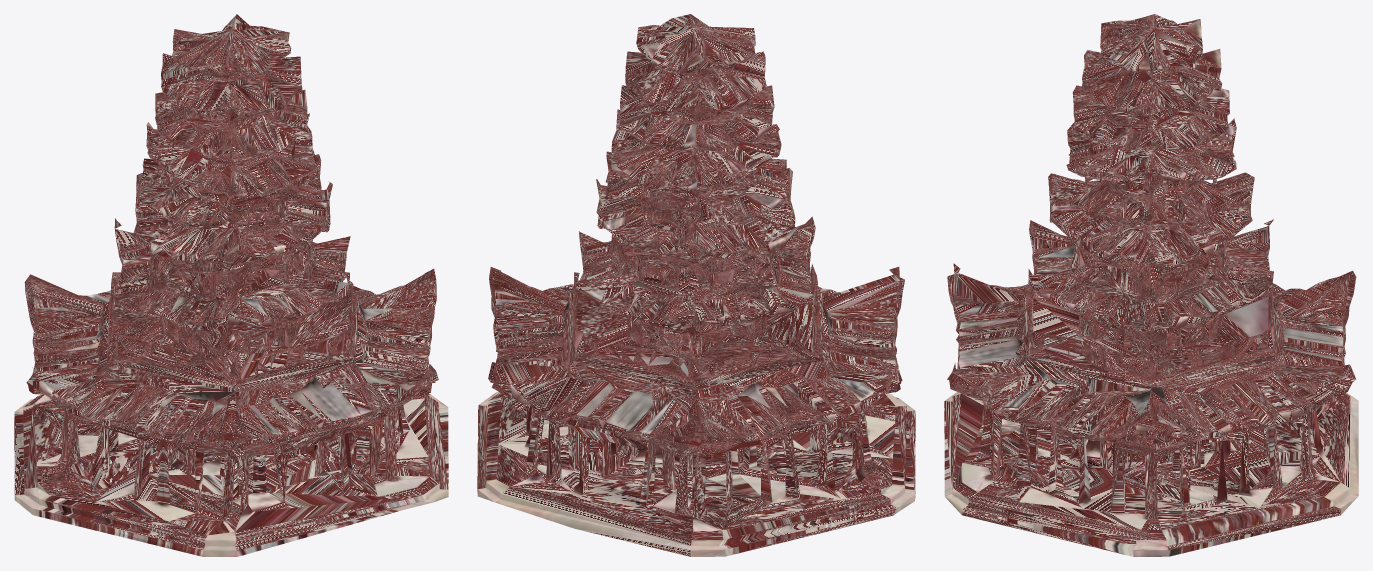
Rendered from lib_pagoda_red.lod.glb.
3 renders of one model, left to right at view 1: azimuth 30°, elevation 25°; view 2: azimuth 150°, elevation 25°; view 3: azimuth 270°, elevation 25°, orthographic.
Visible parts, largest first — view 1: output_unwrapped; view 2: output_unwrapped; view 3: output_unwrapped.
Boxes of the visible parts, x1,y1,x2,y2 form: output_unwrapped: (14, 14, 448, 556); output_unwrapped: (477, 14, 915, 556); output_unwrapped: (944, 14, 1358, 556).
Size of the model in its own units: 2 by 1.96 by 1.72.
1 material, 1 textured.
